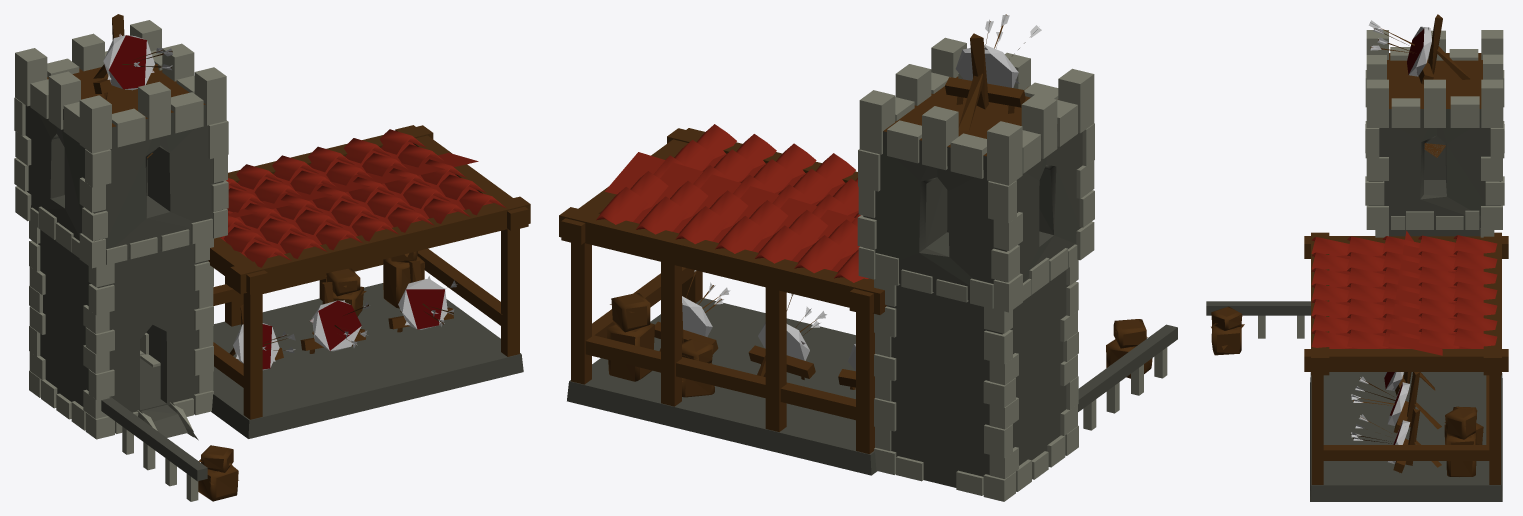
File: Archery_SecondAge_Level1.fbx
3 views of the same model, side by side, from view 1: azimuth 30°, elevation 25°; view 2: azimuth 150°, elevation 25°; view 3: azimuth 270°, elevation 25° (orthographic). The views are drawn at different scales.
Visible parts, largest first — view 1: High_Archery_SecondAge_Level1, Low_Archery_SecondAge_Level1; view 2: High_Archery_SecondAge_Level1, Low_Archery_SecondAge_Level1; view 3: High_Archery_SecondAge_Level1, Low_Archery_SecondAge_Level1.
Boxes of the visible parts, x1,y1,x2,y2 form: High_Archery_SecondAge_Level1: [14, 14, 530, 501]; Low_Archery_SecondAge_Level1: [107, 34, 478, 484]; High_Archery_SecondAge_Level1: [559, 14, 1177, 501]; Low_Archery_SecondAge_Level1: [605, 47, 1147, 381]; High_Archery_SecondAge_Level1: [1206, 14, 1508, 501]; Low_Archery_SecondAge_Level1: [1211, 27, 1483, 432].
Size of the model in its own units: 138 by 125 by 100.
